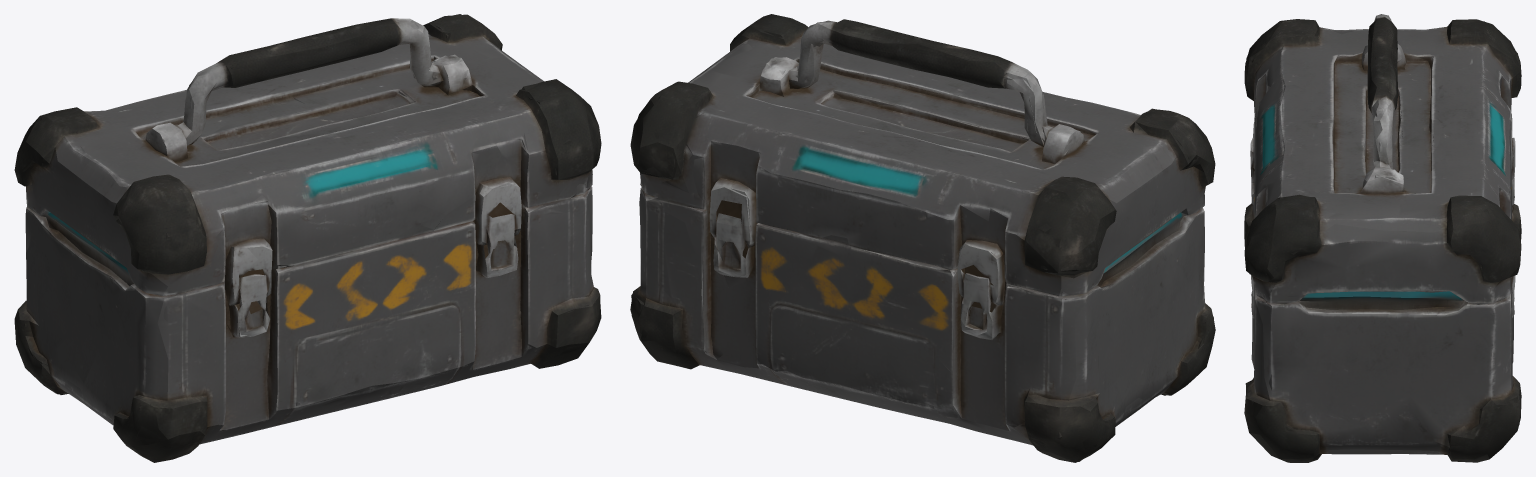
File: emergency-power-cell-carrier.glb
3 views of the same model, side by side, from view 1: azimuth 30°, elevation 25°; view 2: azimuth 150°, elevation 25°; view 3: azimuth 270°, elevation 25° (orthographic). The views are drawn at different scales.
Parts seen in each view (by area): view 1: Body; view 2: Body; view 3: Body.
Part boxes in pixels (bbox=[...]): Body: bbox=[14, 14, 601, 462]; Body: bbox=[630, 14, 1215, 462]; Body: bbox=[1244, 14, 1521, 462].
Bounding box in the file's own units: 2 × 1.38 × 1.11.
Materials: 1 (1 with a texture image).
